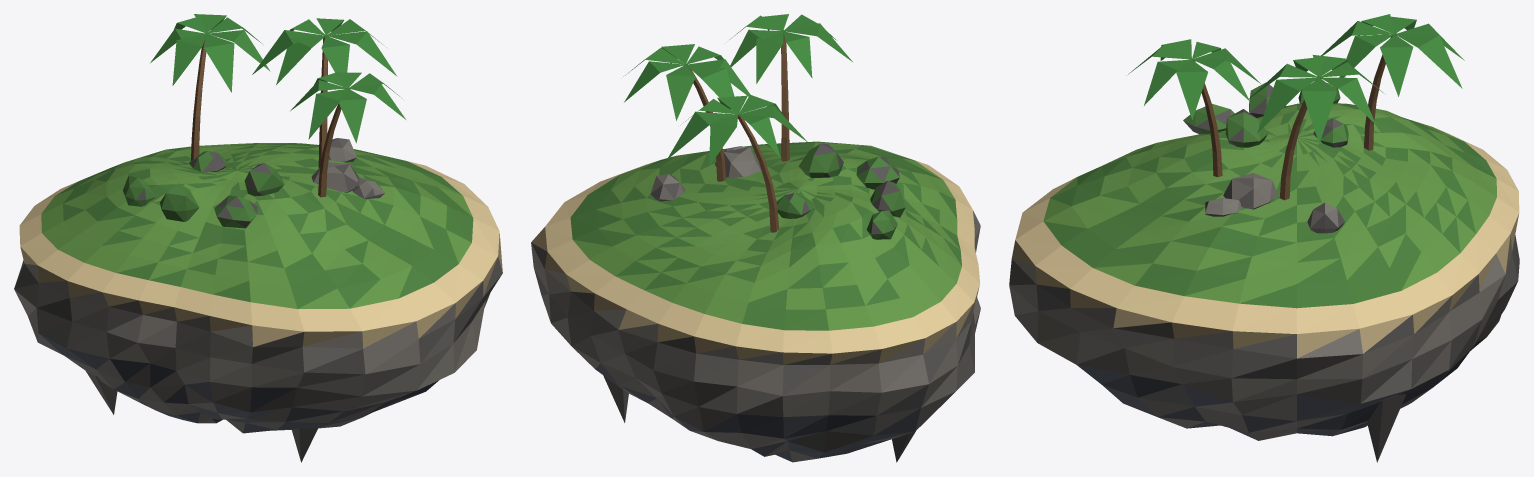
Rendered from island_palm.obj.
The picture shows the model from 3 angles, left to right: view 1: azimuth 30°, elevation 25°; view 2: azimuth 150°, elevation 25°; view 3: azimuth 270°, elevation 25°; orthographic projection. The views are drawn at different scales.
Visible parts, largest first — view 1: island_palm; view 2: island_palm; view 3: island_palm.
Part boxes in pixels (x1,y1,x2,y2): island_palm: (14,14,502,462); island_palm: (531,14,980,462); island_palm: (1009,14,1519,462).
Bounding box in the file's own units: 17.7 × 14.33 × 17.23.
1 material, 1 textured.
